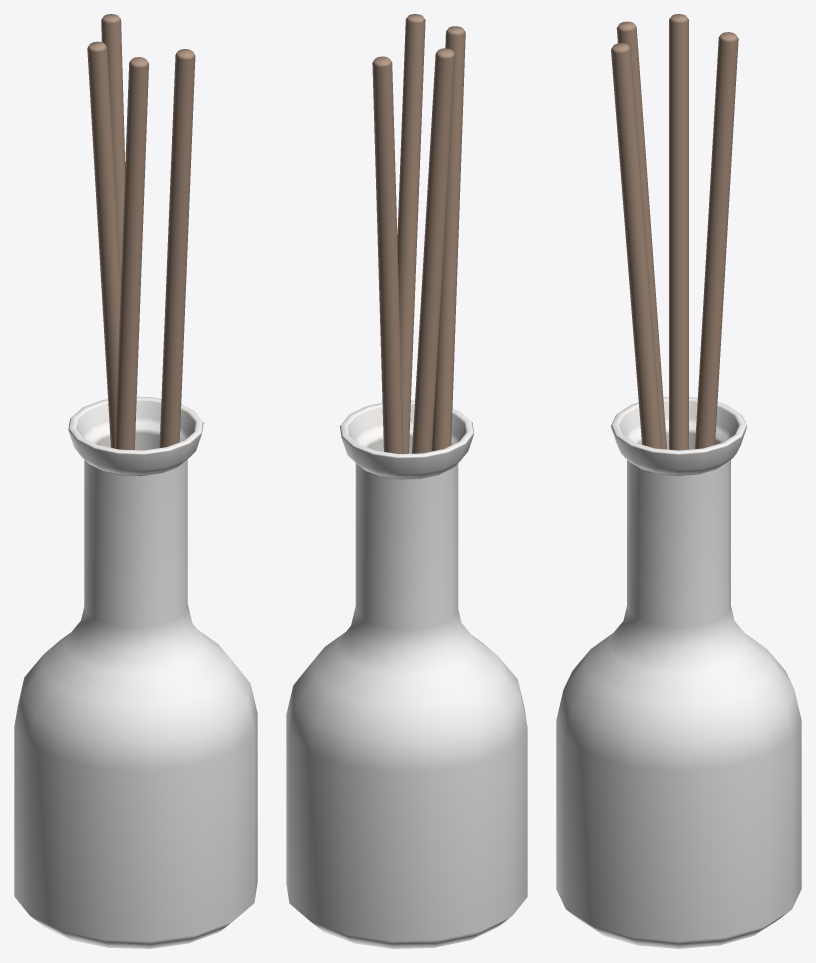
The model's file is Fragrances_for_the_home.glb.
The picture shows the model from 3 angles, left to right: view 1: azimuth 30°, elevation 25°; view 2: azimuth 150°, elevation 25°; view 3: azimuth 270°, elevation 25°; orthographic projection.
Parts seen in each view (by area): view 1: Fragrances_for_the_home; view 2: Fragrances_for_the_home; view 3: Fragrances_for_the_home.
Part boxes in pixels (x1,y1,x2,y2): Fragrances_for_the_home: (14, 14, 257, 948); Fragrances_for_the_home: (286, 14, 527, 948); Fragrances_for_the_home: (556, 14, 801, 948).
Size of the model in its own units: 0.12 by 0.4694 by 0.12.
Materials: 2 (2 with a texture image).
